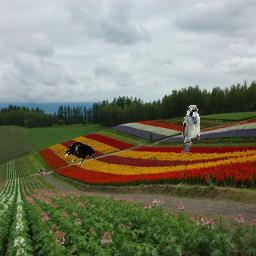Crow: (65, 142, 96, 167)
Sparrow: (182, 105, 200, 153)
